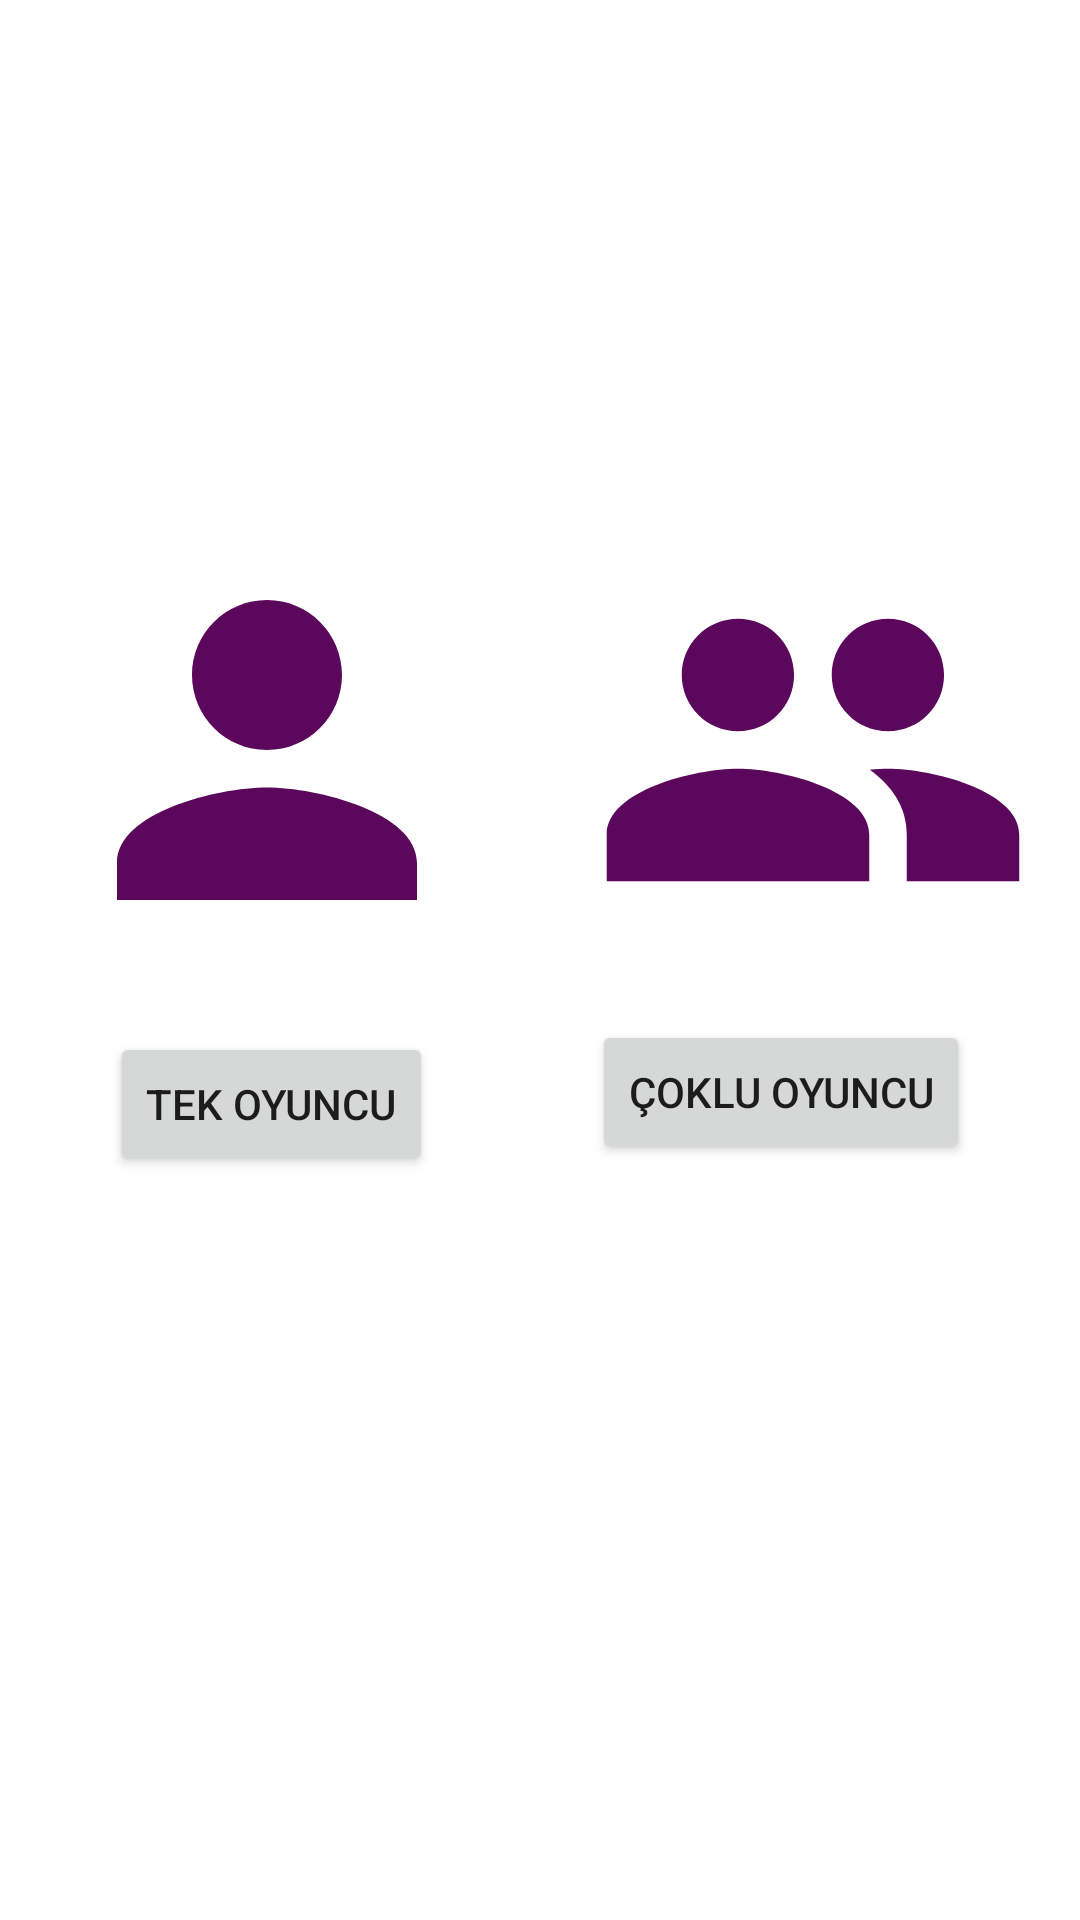

Point at icon controls on the screen. Image size 1080px x 1920px, points as [x,y].
person: [267,750]
